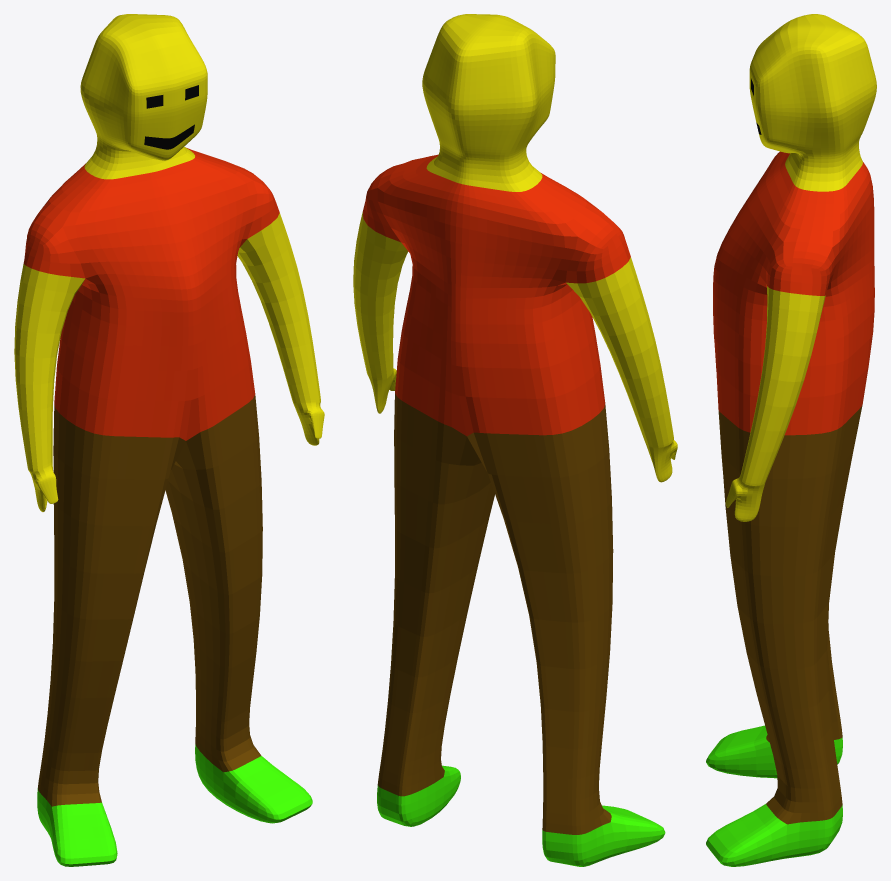
File: ted.fbx
3 renders of one model, left to right at view 1: azimuth 30°, elevation 25°; view 2: azimuth 150°, elevation 25°; view 3: azimuth 270°, elevation 25°, orthographic. The views are drawn at different scales.
Visible parts, largest first — view 1: Cube; view 2: Cube; view 3: Cube.
Boxes of the visible parts, bbox=[...] form: Cube: bbox=[14, 14, 324, 866]; Cube: bbox=[353, 14, 677, 866]; Cube: bbox=[706, 14, 876, 866].
Size of the model in its own units: 304 by 789 by 156.
